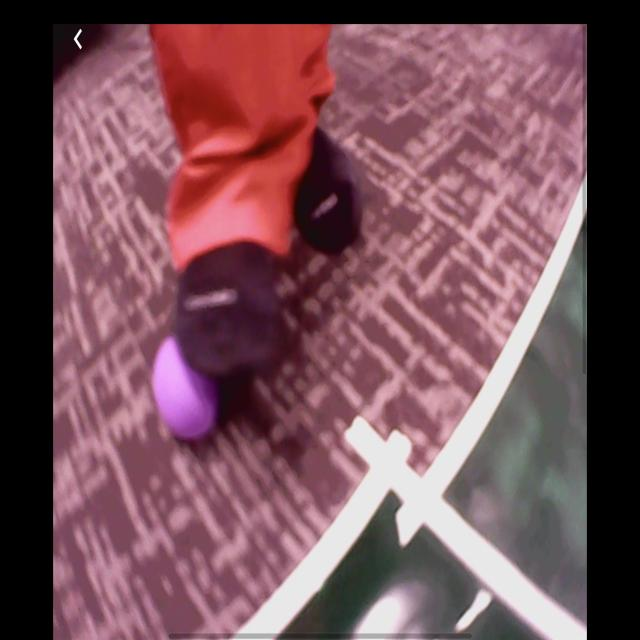ball: (154, 336, 221, 439)
